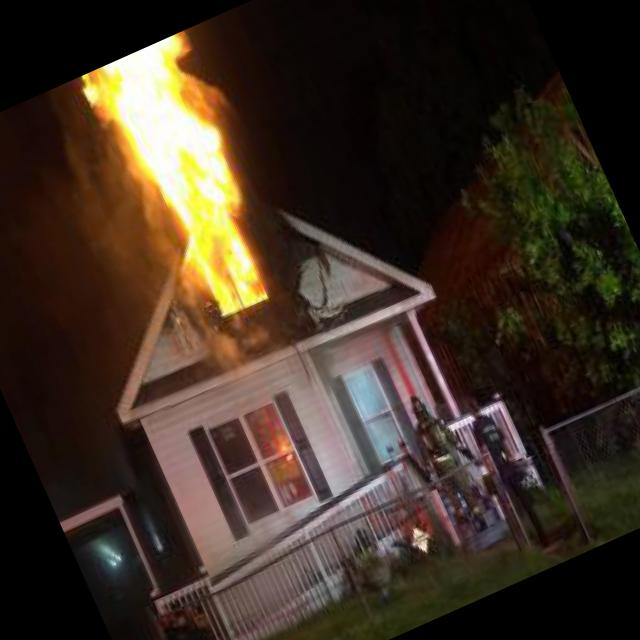fire: (56, 22, 320, 350)
